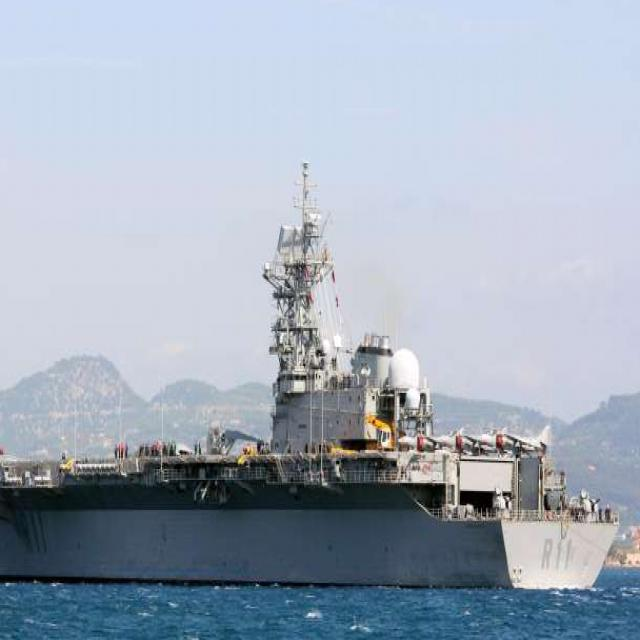Portanaves: (1, 150, 625, 587)
